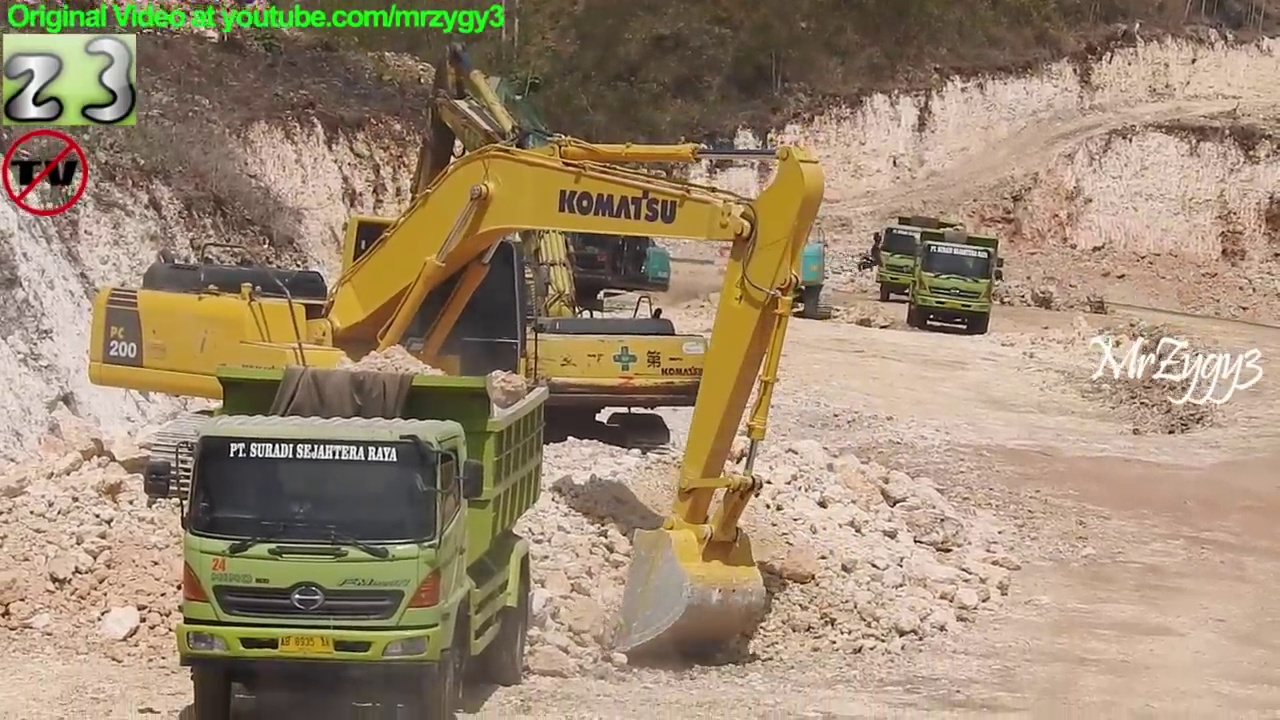excavator: (85, 128, 827, 669), (296, 37, 722, 472), (420, 51, 674, 327), (727, 165, 836, 323)
truck: (140, 358, 557, 720), (902, 227, 1006, 333), (869, 212, 971, 305)
